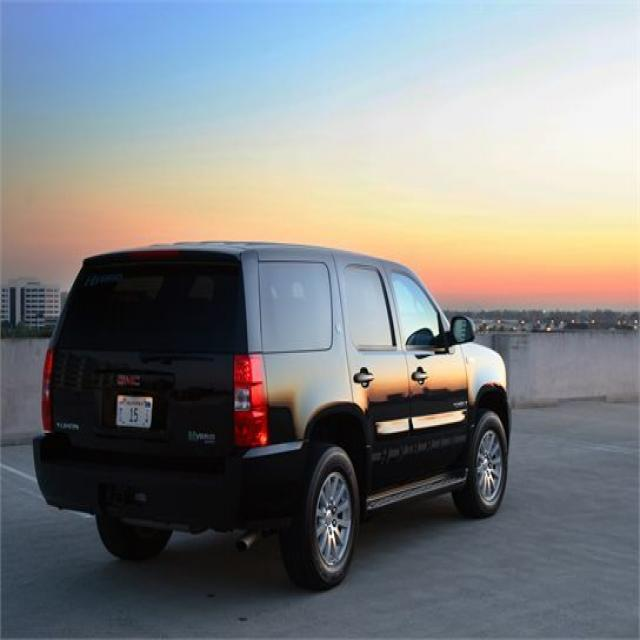car: (33, 240, 512, 588)
